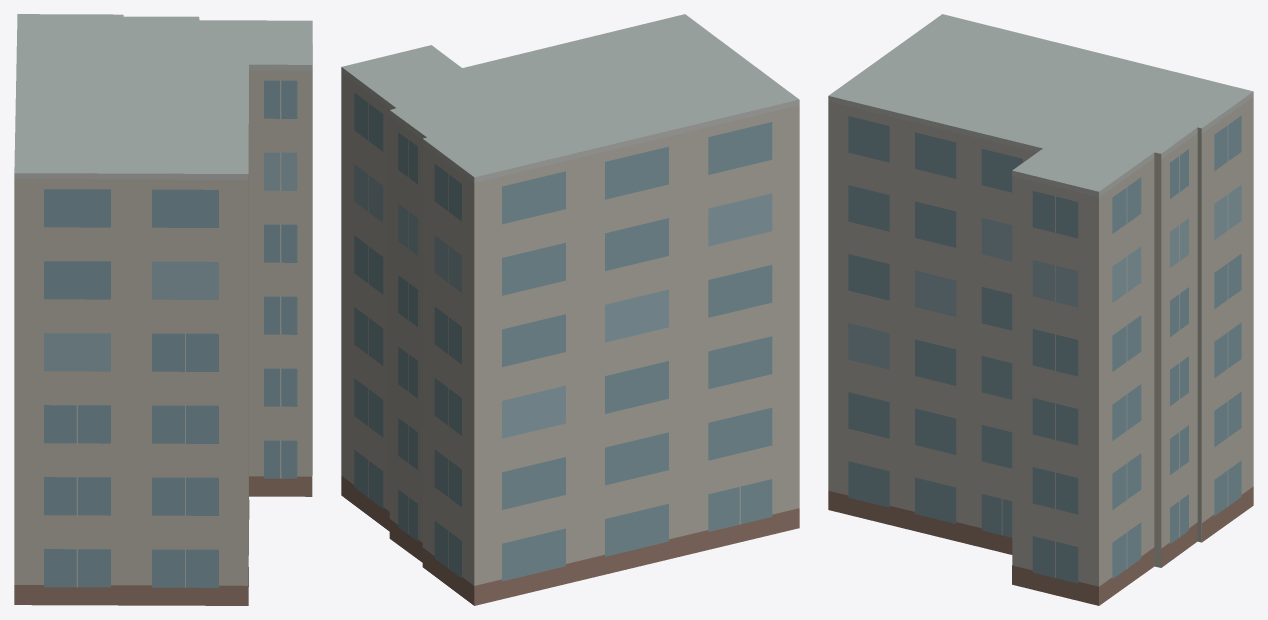
Rendered from survey-upis-33034681.glb.
3 views of the same model, side by side, from view 1: azimuth 30°, elevation 25°; view 2: azimuth 150°, elevation 25°; view 3: azimuth 270°, elevation 25° (orthographic). The views are drawn at different scales.
Visible parts, largest first — view 1: survey-upis-33034681.tmp; view 2: survey-upis-33034681.tmp; view 3: survey-upis-33034681.tmp.
Part boxes in pixels (left/top/right/bottom): survey-upis-33034681.tmp: left=14, top=14, right=312, bottom=605; survey-upis-33034681.tmp: left=341, top=14, right=799, bottom=605; survey-upis-33034681.tmp: left=828, top=14, right=1253, bottom=605.
Bounding box in the file's own units: 16.99 × 18.45 × 17.18.
